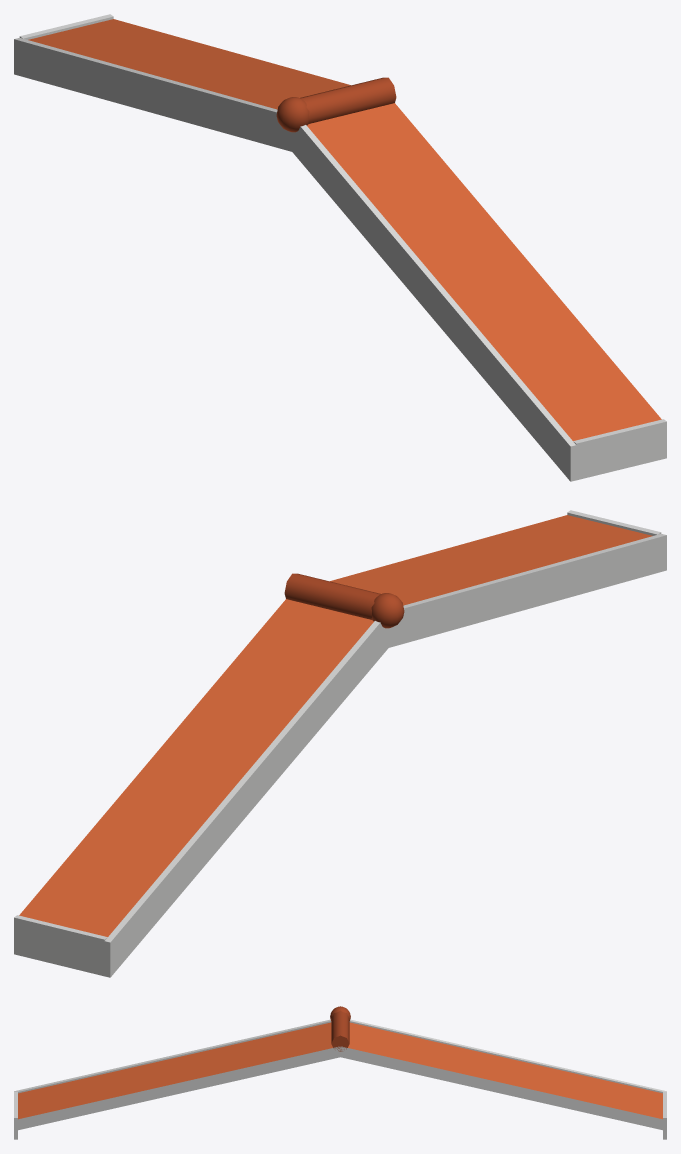
File: telhado_empena_v4_i25.glb
The picture shows the model from 3 angles, top to bottom: view 1: azimuth 30°, elevation 25°; view 2: azimuth 150°, elevation 25°; view 3: azimuth 270°, elevation 25°; orthographic projection. The views are drawn at different scales.
Parts seen in each view (by area): view 1: telhado_empena_v4_i25; view 2: telhado_empena_v4_i25; view 3: telhado_empena_v4_i25.
Part boxes in pixels (x1,y1,x2,y2): telhado_empena_v4_i25: (14,14,666,481); telhado_empena_v4_i25: (14,510,666,977); telhado_empena_v4_i25: (14,1006,666,1139).
Size of the model in its own units: 0.57 by 0.8878 by 5.
